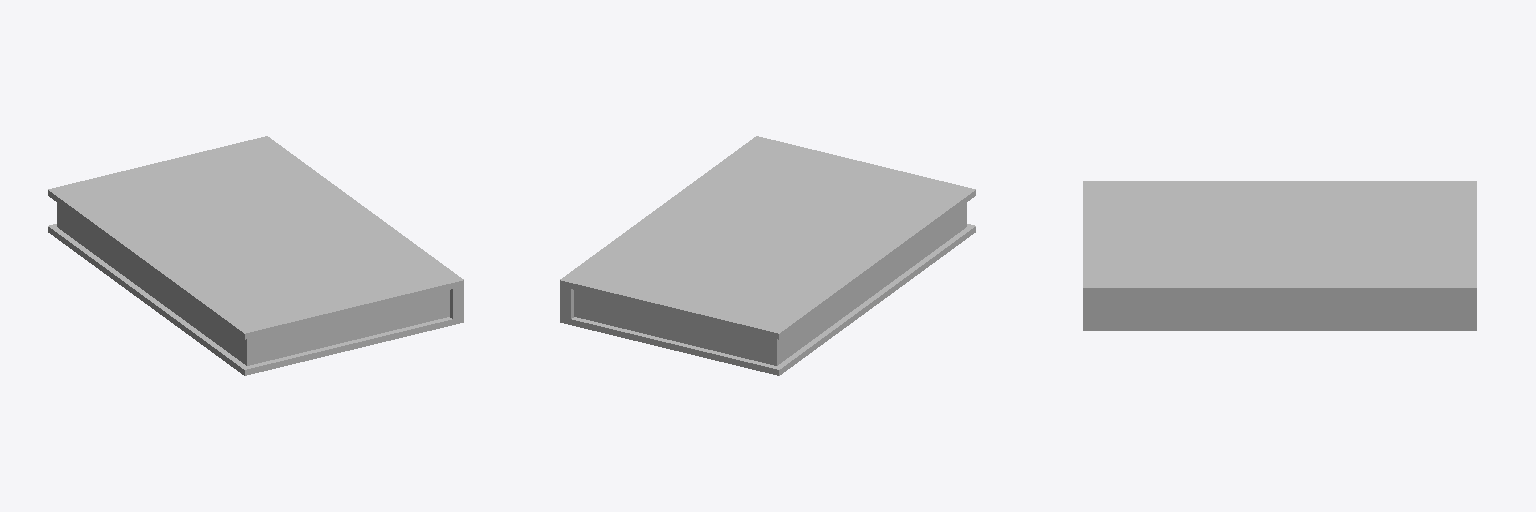
Rendered from Book.obj.
3 renders of one model, left to right at view 1: azimuth 30°, elevation 25°; view 2: azimuth 150°, elevation 25°; view 3: azimuth 270°, elevation 25°, orthographic.
Visible parts, largest first — view 1: object 1; view 2: object 1; view 3: object 1.
Part boxes in pixels (x1,y1,x2,y2): object 1: (48, 136, 463, 375); object 1: (560, 136, 975, 375); object 1: (1083, 181, 1476, 330).
Size of the model in its own units: 3.8 by 0.7 by 5.9.